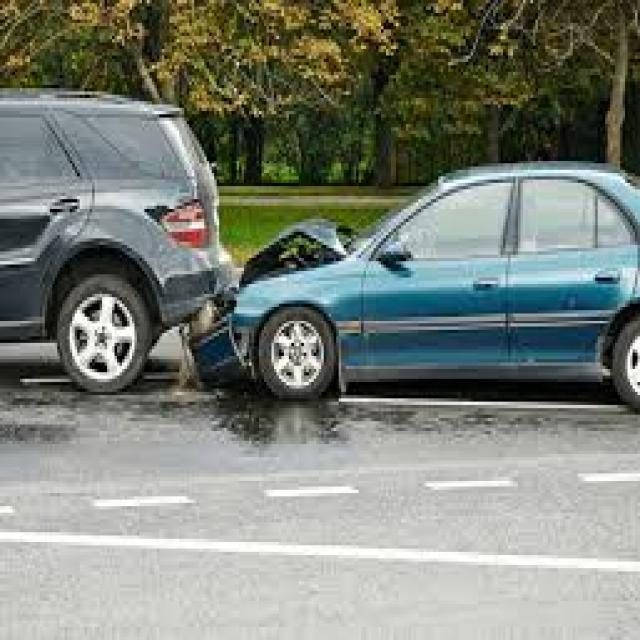severe: (136, 151, 500, 395)
